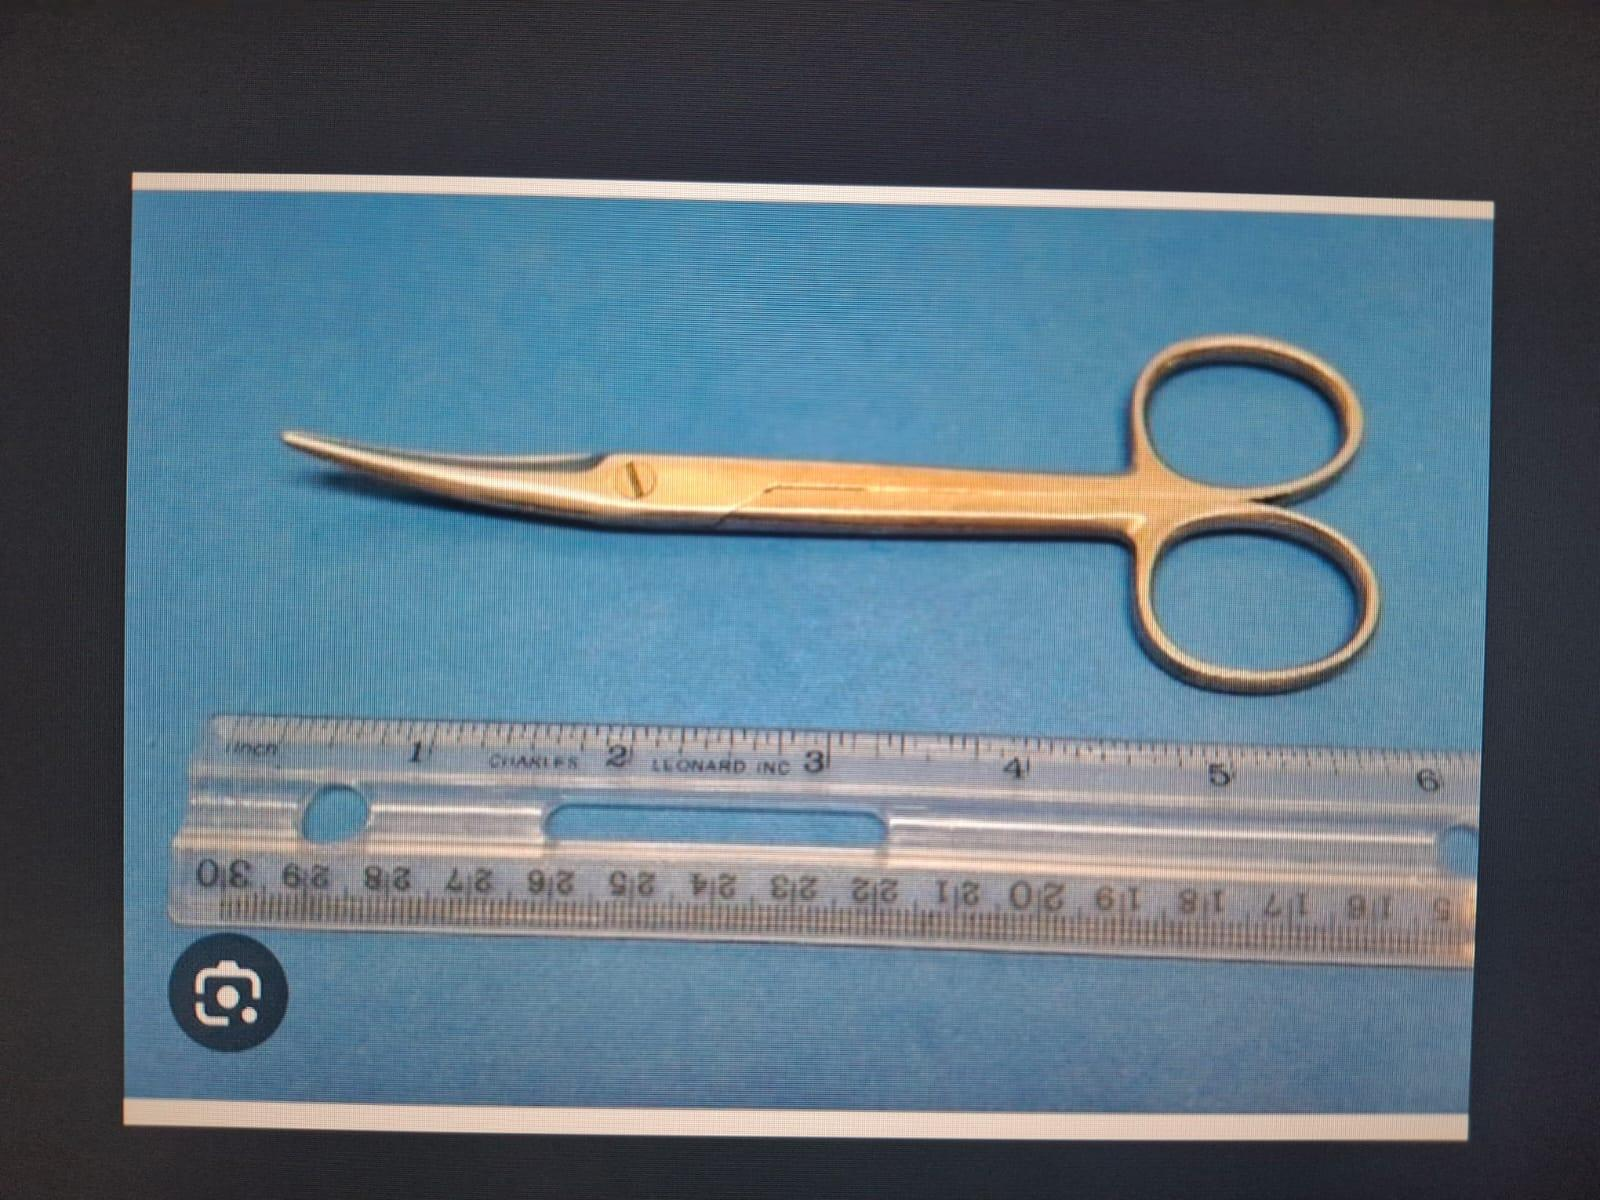Curved Mayo: (265, 308, 1385, 713)
